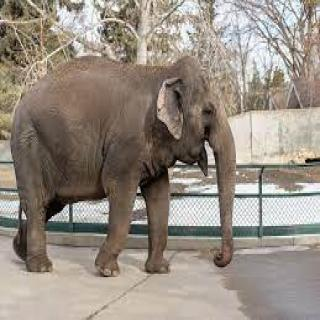Elephant: (8, 53, 240, 280)
